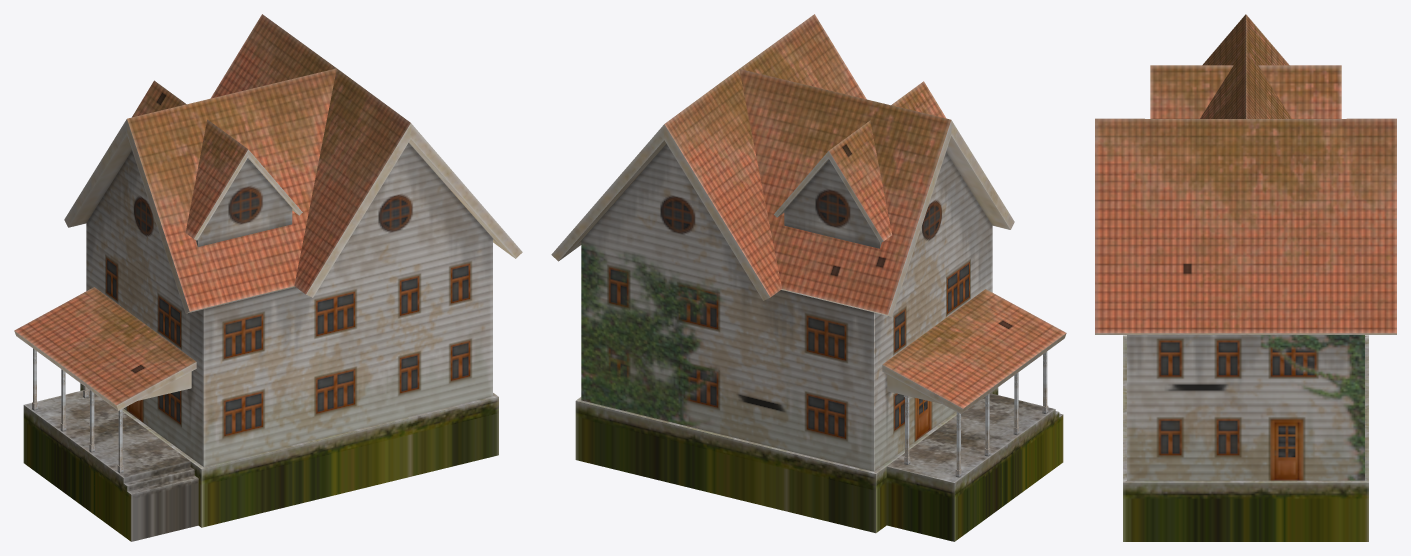
File: House 5 - Separated.fbx
3 views of the same model, side by side, from view 1: azimuth 30°, elevation 25°; view 2: azimuth 150°, elevation 25°; view 3: azimuth 270°, elevation 25° (orthographic).
Visible parts, largest first — view 1: House 5; view 2: House 5, Door_Front; view 3: House 5, Door_Back.
Part boxes in pixels (x1,y1,x2,y2): House 5: (14, 14, 522, 541); House 5: (551, 14, 1066, 541); Door_Front: (915, 398, 931, 441); House 5: (1095, 14, 1396, 541); Door_Back: (1270, 419, 1303, 480).
Size of the model in its own units: 5.27 by 4.83 by 3.54.
